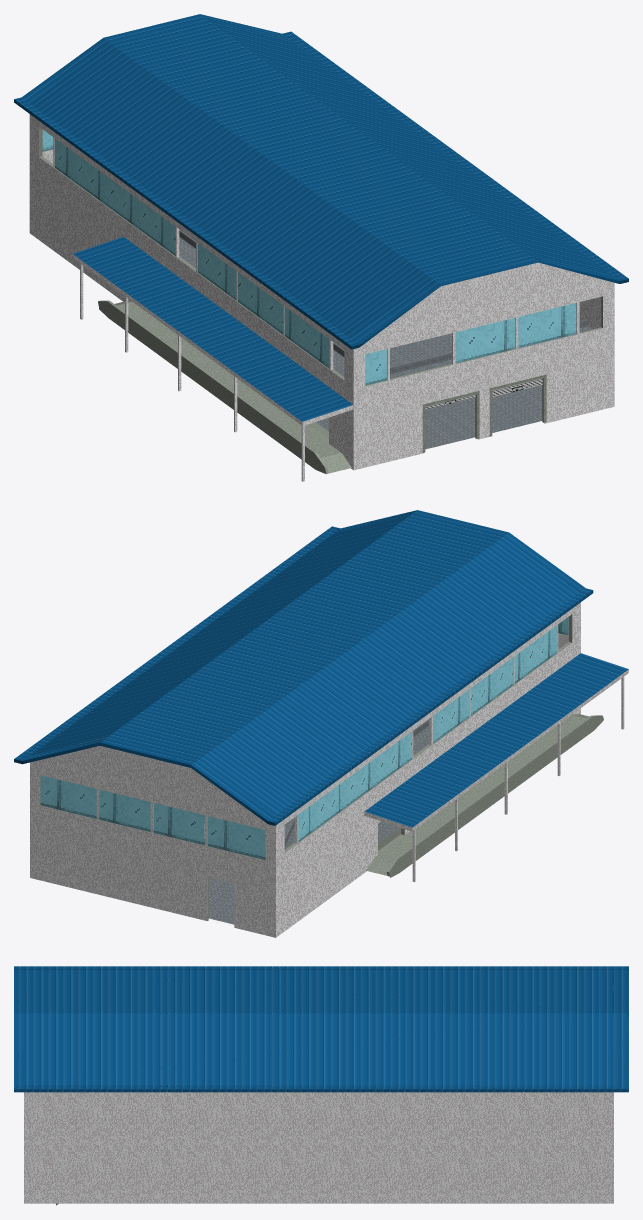
Rendered from BGN_PORT HANGAR.fbx.
The picture shows the model from 3 angles, top to bottom: view 1: azimuth 30°, elevation 25°; view 2: azimuth 150°, elevation 25°; view 3: azimuth 270°, elevation 25°; orthographic projection. The views are drawn at different scales.
Visible parts, largest first — view 1: BGN_PORT_HANGAR; view 2: BGN_PORT_HANGAR; view 3: BGN_PORT_HANGAR.
Boxes of the visible parts, bbox=[...] form: BGN_PORT_HANGAR: bbox=[14, 14, 628, 481]; BGN_PORT_HANGAR: bbox=[14, 510, 628, 937]; BGN_PORT_HANGAR: bbox=[14, 966, 628, 1205].
Bounding box in the file's own units: 2268 × 1186 × 4134.
